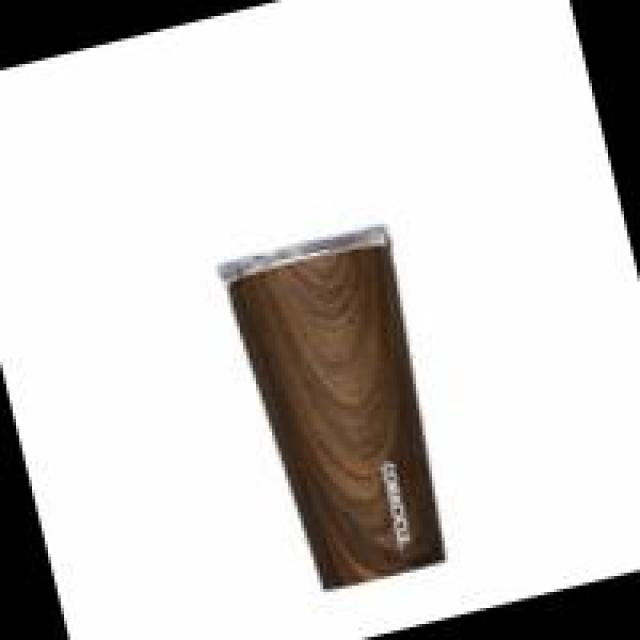bottle: (213, 218, 472, 602)
